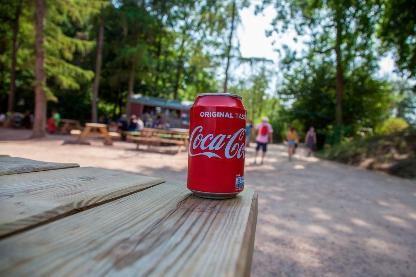Can: (186, 91, 248, 199)
